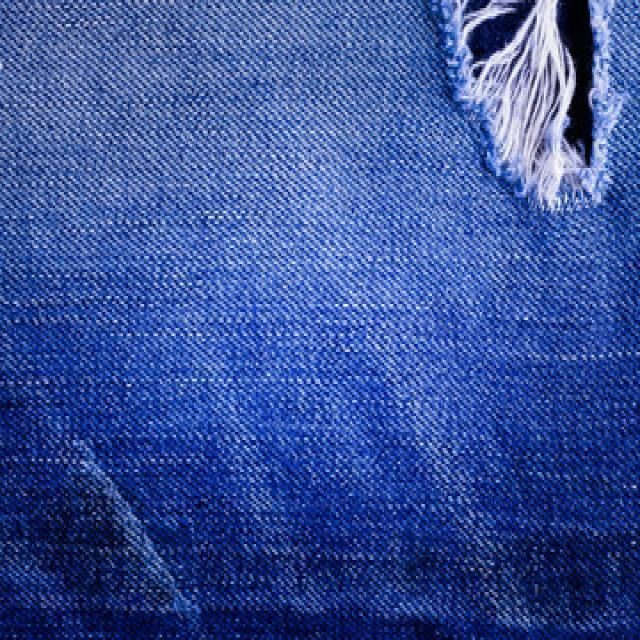Hole: (434, 0, 622, 210)
